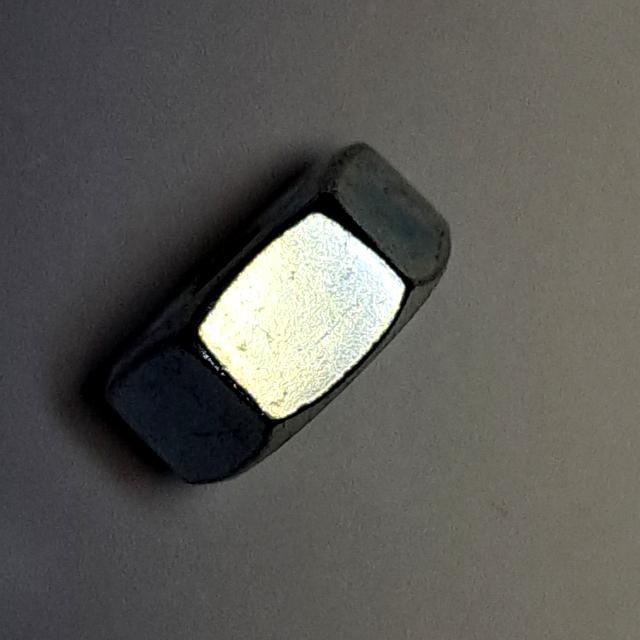Side_Excellent: (81, 128, 471, 500)
